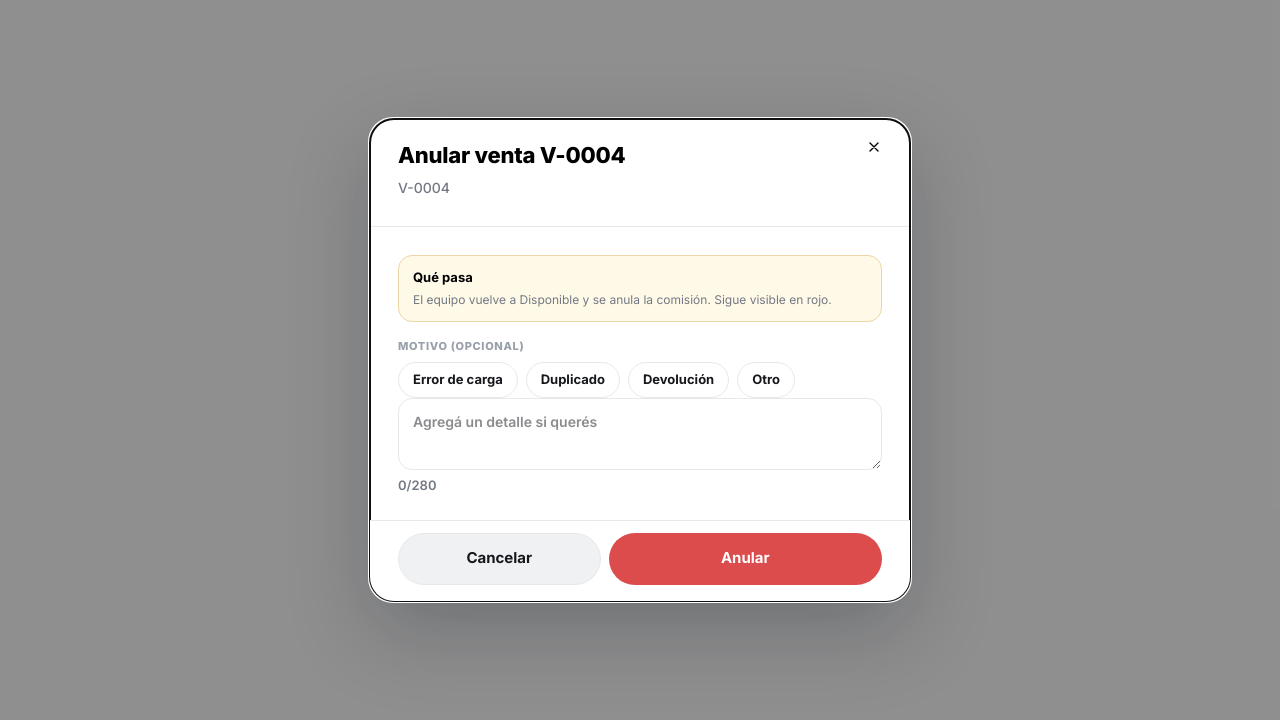
Scenario: operation detail › keeps the shared reason sheet open while a destructive request is pending
The width and height of the screenshot is (1280, 720).
Type "Conservar el motivo" into the text box labelled "detalle". click: (640, 434)
box: [398,398,882,470]
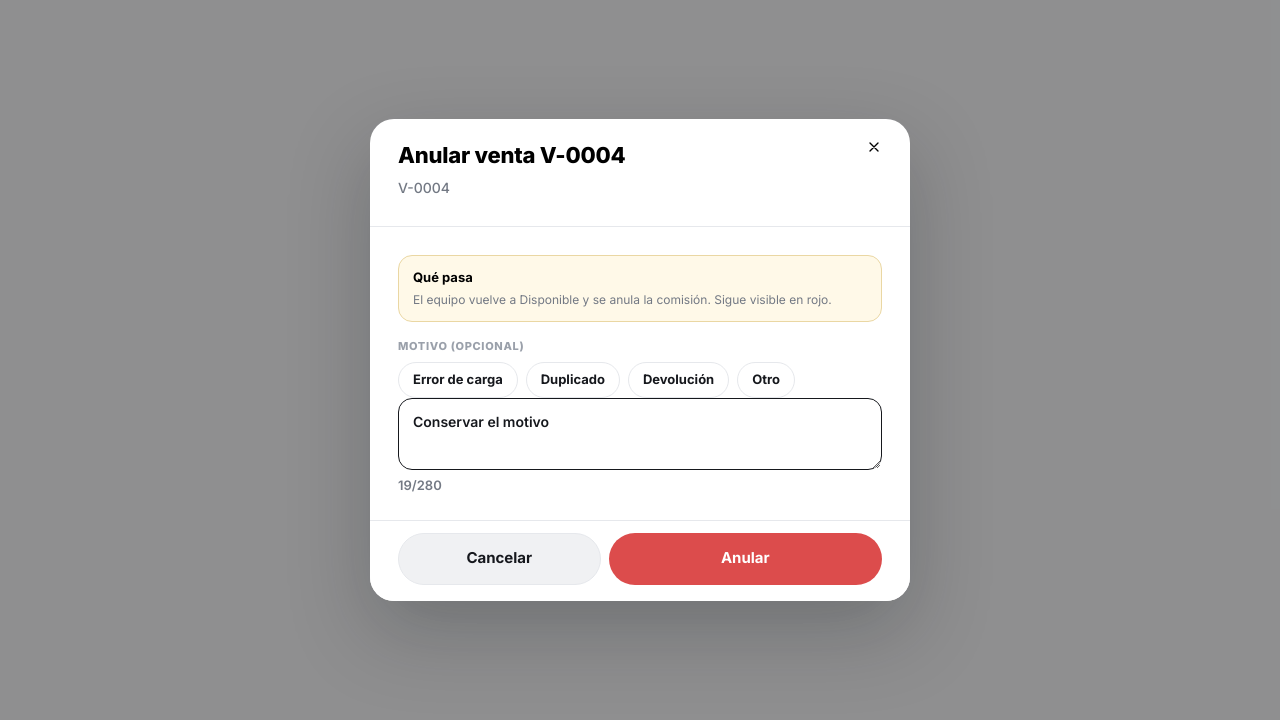
Click the button "Anular". click: (745, 558)
box: [608,532,882,584]
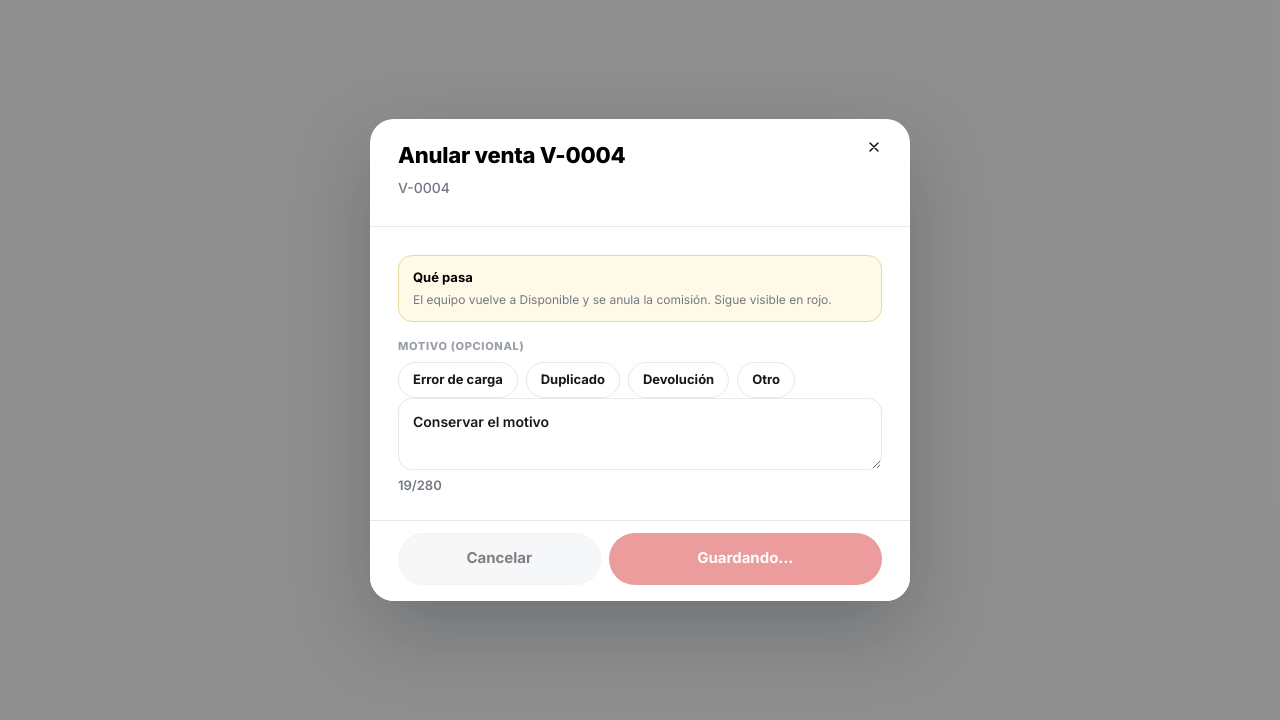
expect the button named "Cerrar" is disabled: met, box [866,140,882,156]
expect the button "Guardando…" is disabled: met, box [608,532,882,584]
Press Escape
Press the mouse on the element that starts with "Anular venta V-0004" at (640, 360), box [370,120,910,601]
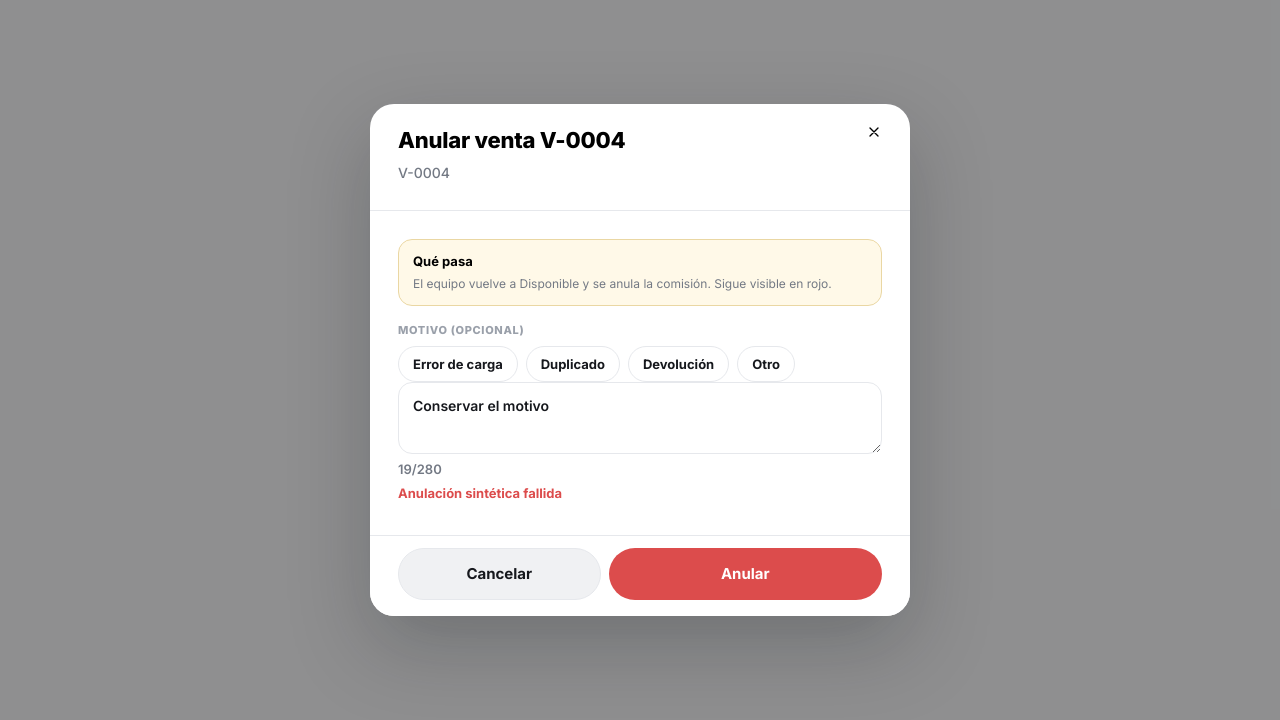
expect the dialog "Anular venta V-0004" shows "Anulación sintética fallida": met, box [398,485,562,501]
